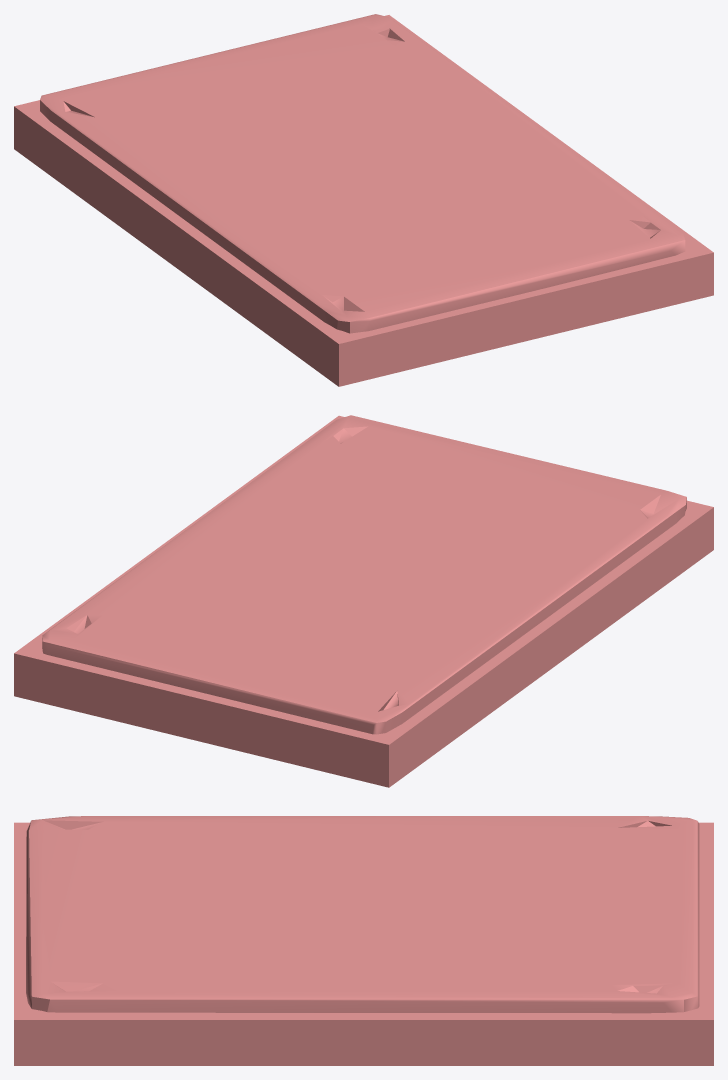
File: ComplexWall_3x2_04_Final.fbx
3 renders of one model, top to bottom at view 1: azimuth 30°, elevation 25°; view 2: azimuth 150°, elevation 25°; view 3: azimuth 270°, elevation 25°, orthographic. The views are drawn at different scales.
Parts seen in each view (by area): view 1: Final_ComplexWall_3x2_04; view 2: Final_ComplexWall_3x2_04; view 3: Final_ComplexWall_3x2_04.
Part boxes in pixels (<box>): Final_ComplexWall_3x2_04: <box>14,14,713,386</box>; Final_ComplexWall_3x2_04: <box>14,415,713,787</box>; Final_ComplexWall_3x2_04: <box>14,816,713,1065</box>.
Size of the model in its own units: 200 by 28.38 by 300.
